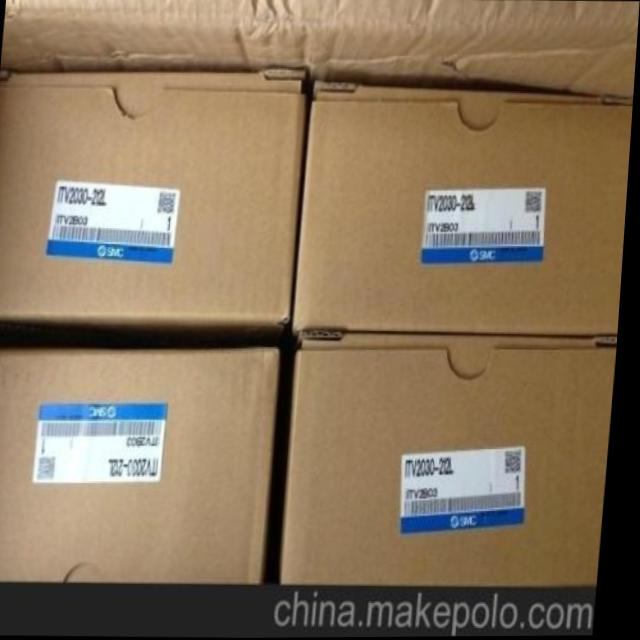box: (290, 77, 635, 345), (0, 68, 311, 338), (281, 337, 620, 583), (0, 346, 286, 584), (2, 0, 640, 94)
